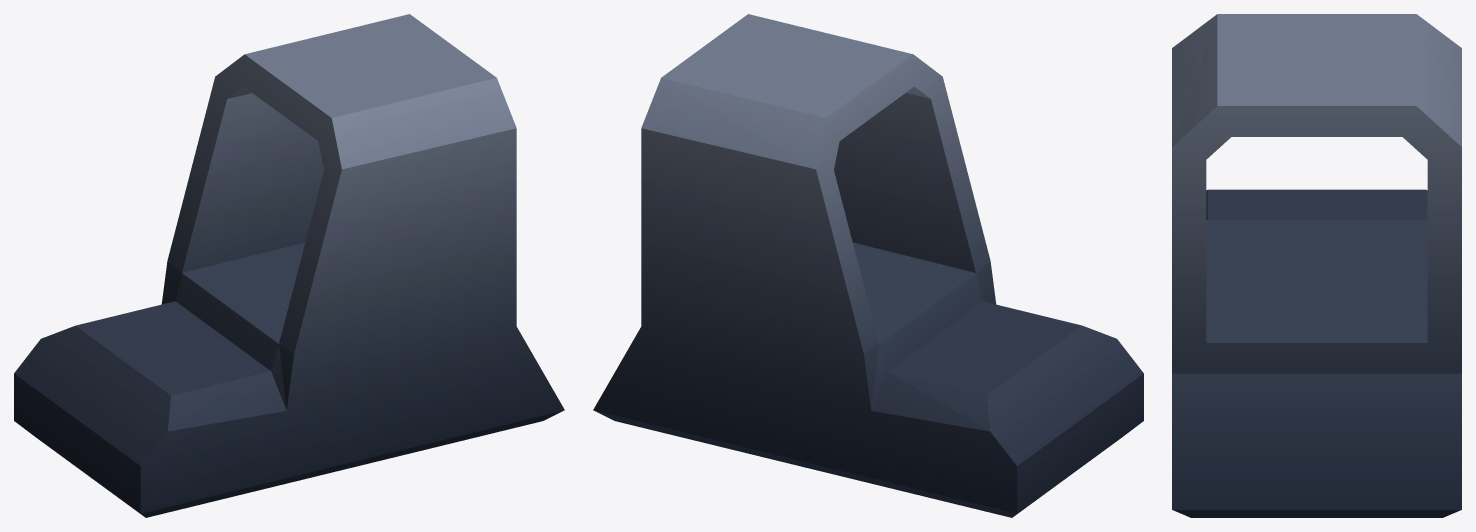
Rendered from Sight3.FBX.
3 renders of one model, left to right at view 1: azimuth 30°, elevation 25°; view 2: azimuth 150°, elevation 25°; view 3: azimuth 270°, elevation 25°, orthographic. The views are drawn at different scales.
Parts seen in each view (by area): view 1: Box017; view 2: Box017; view 3: Box017.
Boxes of the visible parts, bbox=[...] form: Box017: bbox=[14, 14, 564, 517]; Box017: bbox=[593, 14, 1143, 517]; Box017: bbox=[1172, 14, 1461, 517].
Size of the model in its own units: 5.51 by 4.26 by 2.85.
